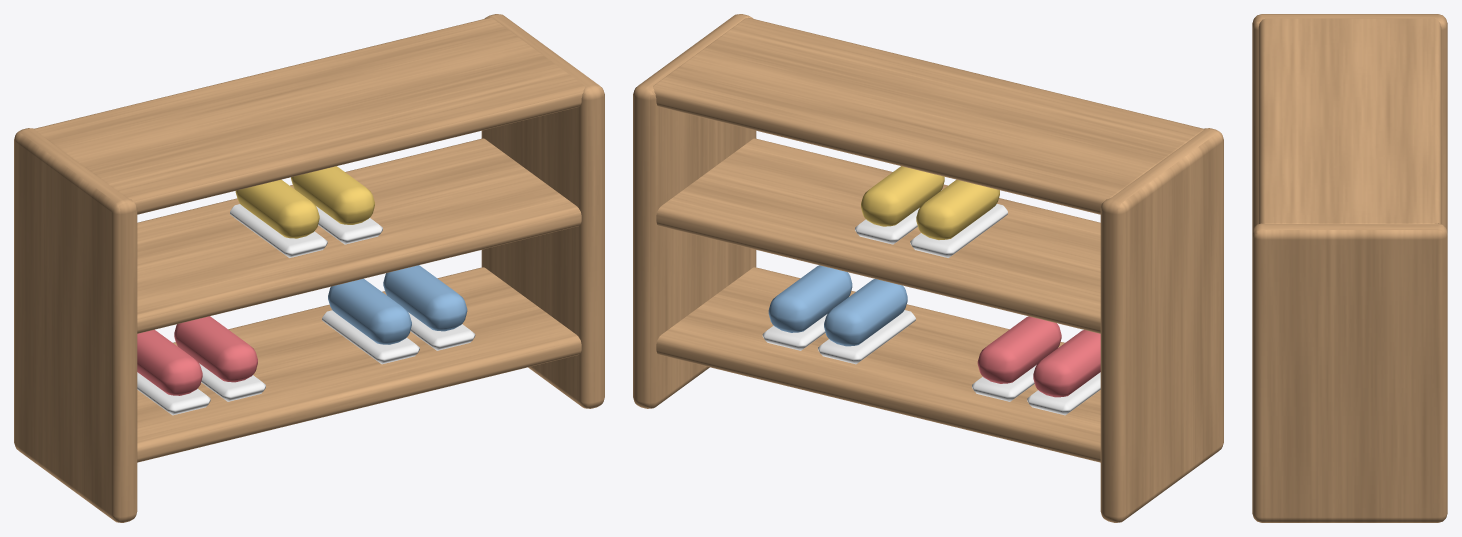
File: prop_shoe_rack.glb
The picture shows the model from 3 angles, left to right: view 1: azimuth 30°, elevation 25°; view 2: azimuth 150°, elevation 25°; view 3: azimuth 270°, elevation 25°; orthographic projection. The views are drawn at different scales.
Visible parts, largest first — view 1: prop_shoe_rack; view 2: prop_shoe_rack; view 3: prop_shoe_rack.
Boxes of the visible parts, bbox=[...] form: prop_shoe_rack: bbox=[14, 14, 604, 522]; prop_shoe_rack: bbox=[633, 14, 1223, 522]; prop_shoe_rack: bbox=[1252, 14, 1447, 522].
Bounding box in the file's own units: 1 × 0.625 × 0.375.
5 materials, 1 textured.
